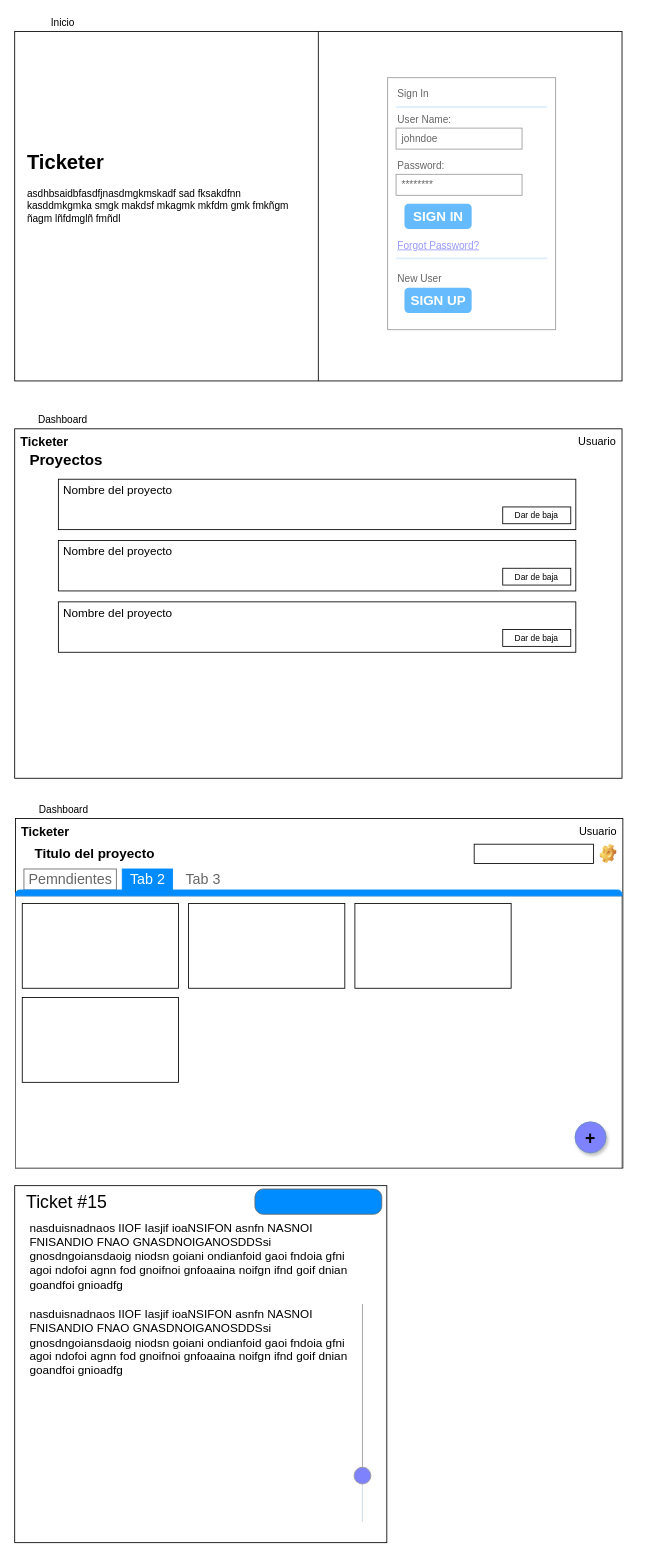
Image size: 656x1557. Some labels were removed from this diagram. The centre of each missing label's shape, as x and y in pixels:
Editar: point (318, 1201)
Volver dashboard: point (533, 853)
